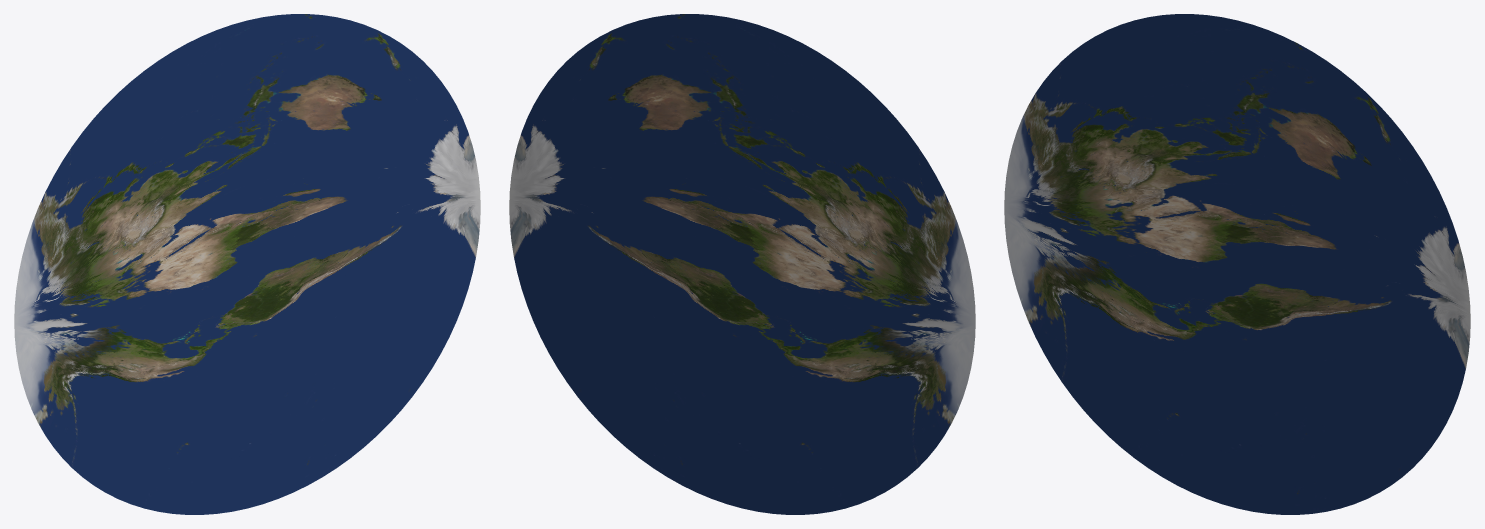
The model's file is tutte_earth.obj.
3 views of the same model, side by side, from view 1: azimuth 30°, elevation 25°; view 2: azimuth 150°, elevation 25°; view 3: azimuth 330°, elevation 25° (orthographic).
Parts seen in each view (by area): view 1: material_export; view 2: material_export; view 3: material_export.
Part boxes in pixels (box(x1,y1,x2,y2)): material_export: box(14, 14, 480, 514); material_export: box(509, 14, 975, 514); material_export: box(1004, 14, 1470, 514).
Bounding box in the file's own units: 2 × 2 × 0.
1 material, 1 textured.
